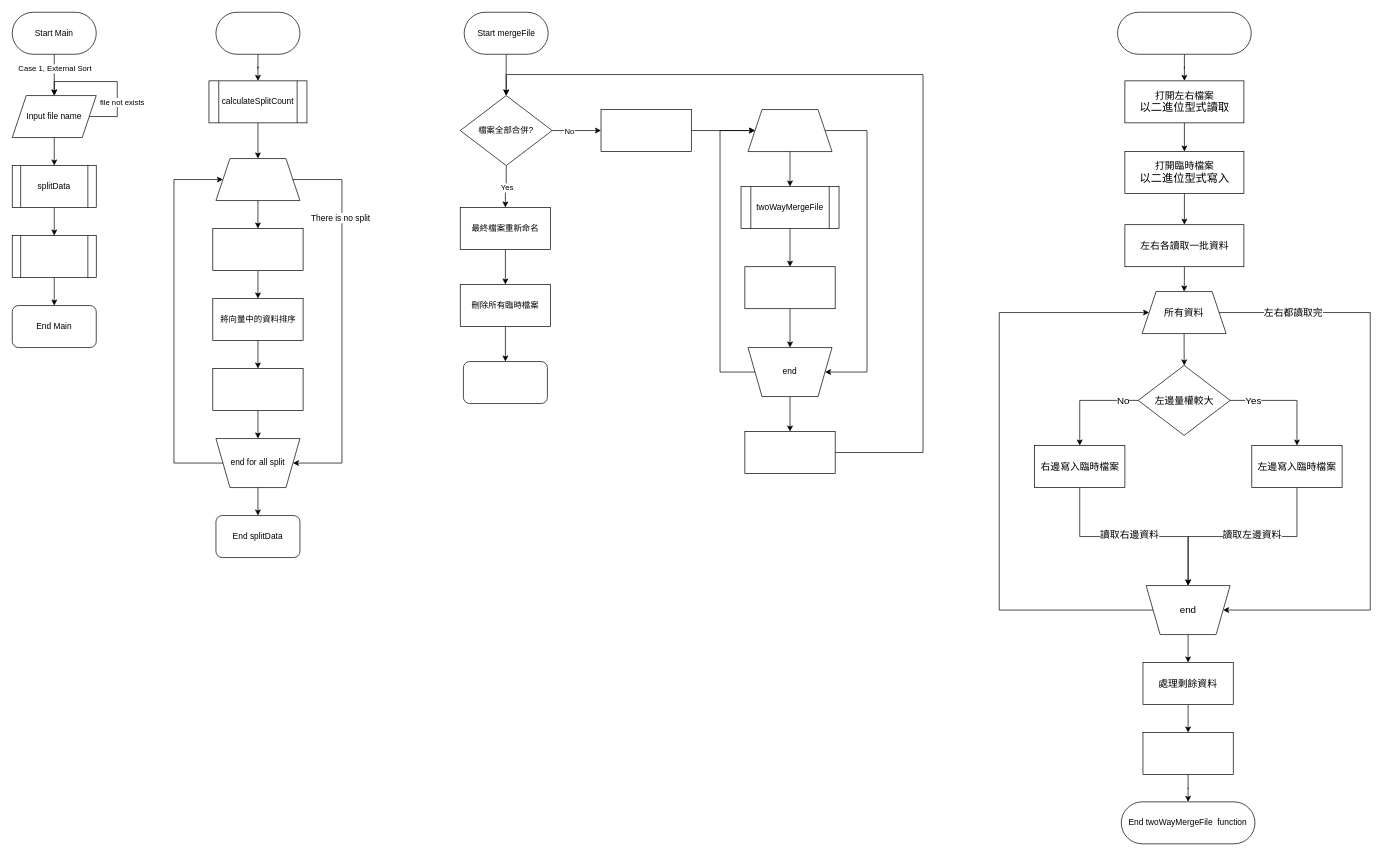
Some shapes in this 1388 by 856 pixel diagram are drawn without their labels. Here are the shapes that lost their labels. From the top down, the box of each, then its label:
(215, 12, 300, 54): Start splitData
(1117, 12, 1251, 54): twoWayMergeFile function
(600, 109, 691, 152): 初始化 new_file_name向量
(747, 109, 832, 152): 每兩個 split
(215, 158, 300, 201): for all split
(12, 235, 96, 278): mergeFile
(212, 228, 303, 271): 資料加入向量
(744, 266, 835, 309): 刪除已合併的臨時檔案
(212, 368, 303, 411): 寫入臨時檔案
(463, 361, 547, 404): End mergeFile
(744, 431, 835, 474): 更新檔案名稱到new_file_name
(1142, 732, 1233, 775): 關閉所有檔案
